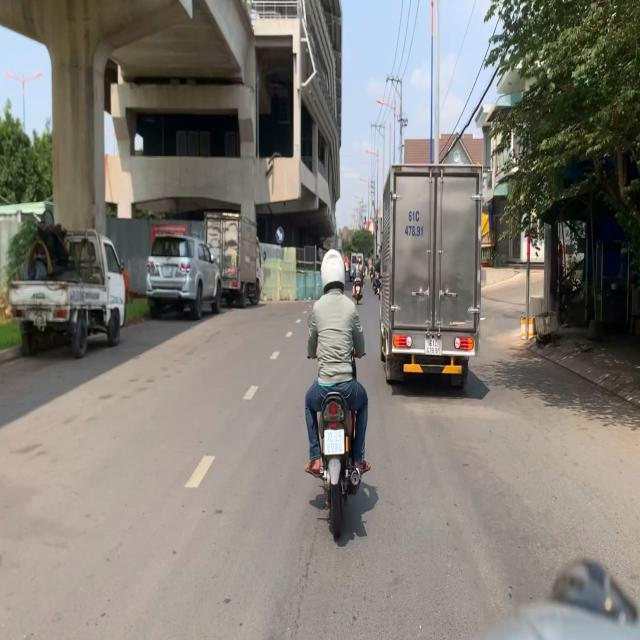Hieu lenh: (275, 226, 285, 244)
